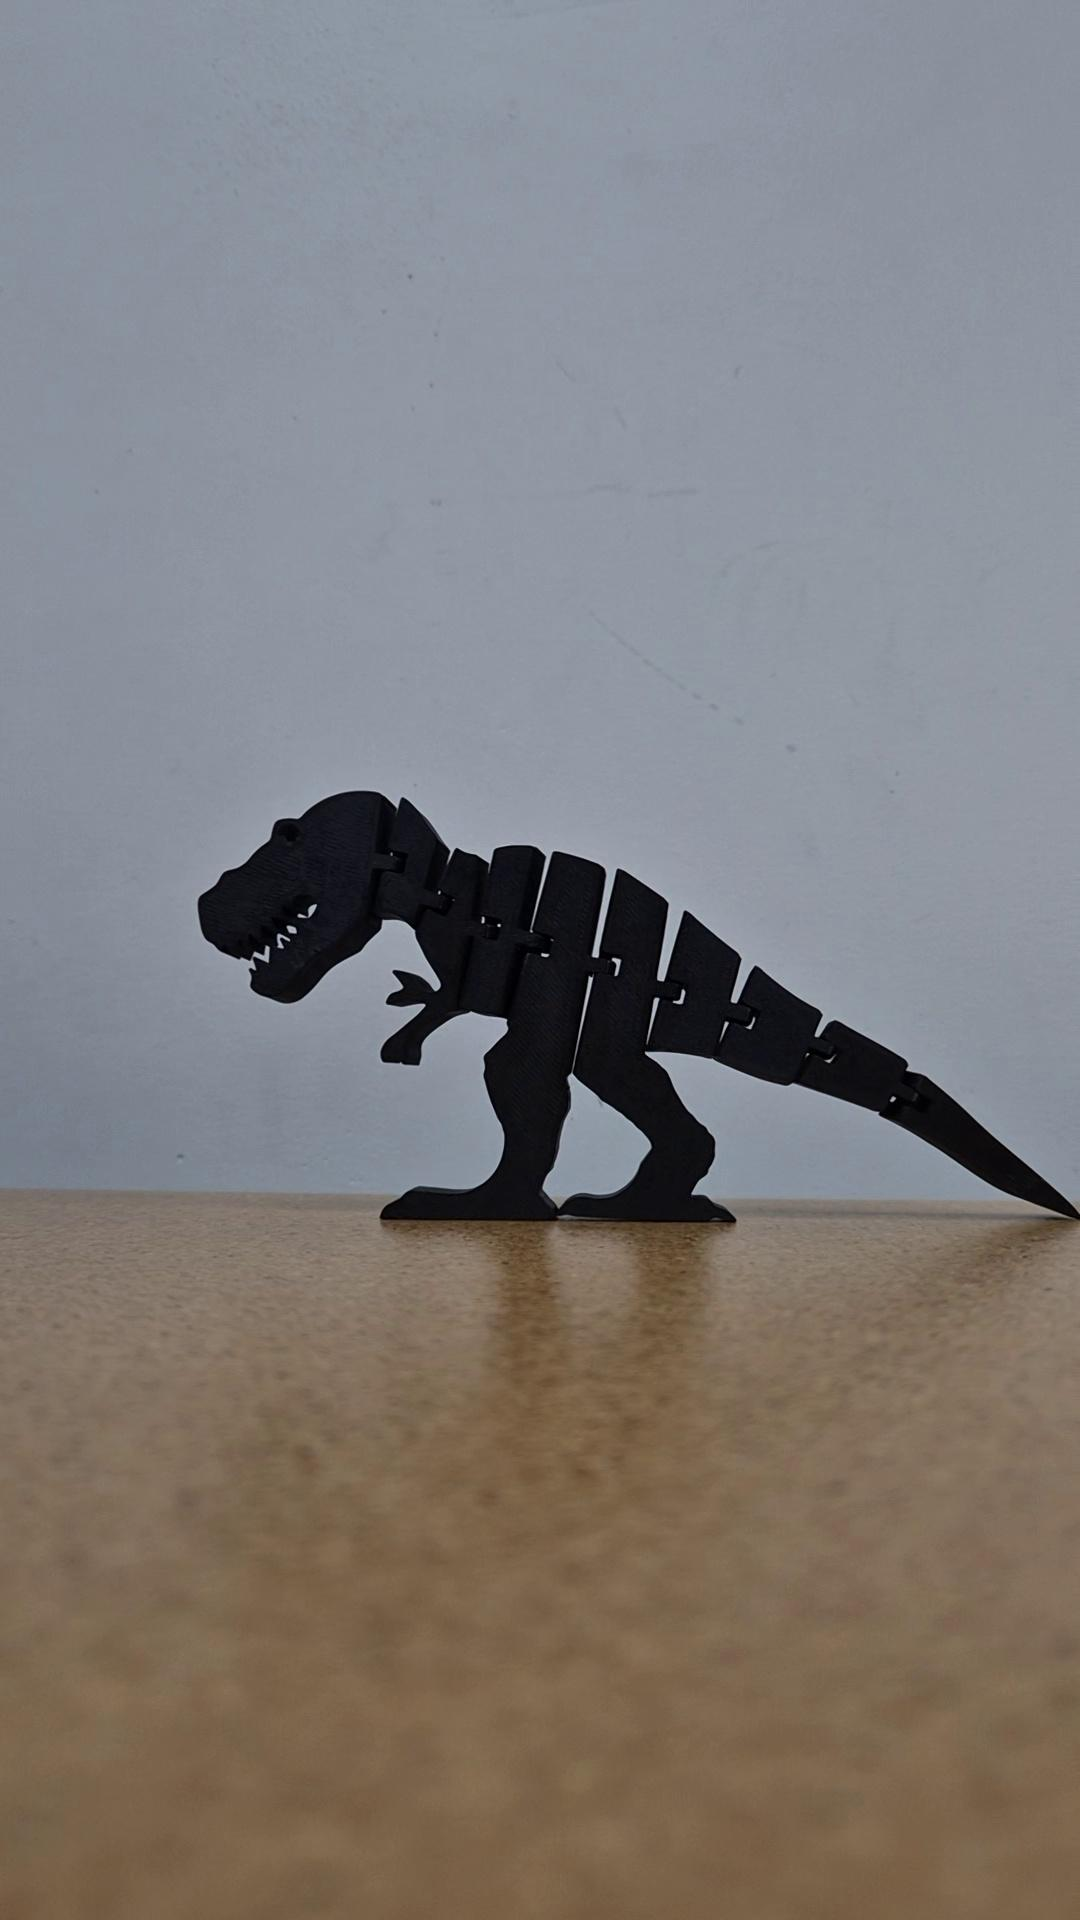dinosaur: (195, 789, 1080, 1226)
